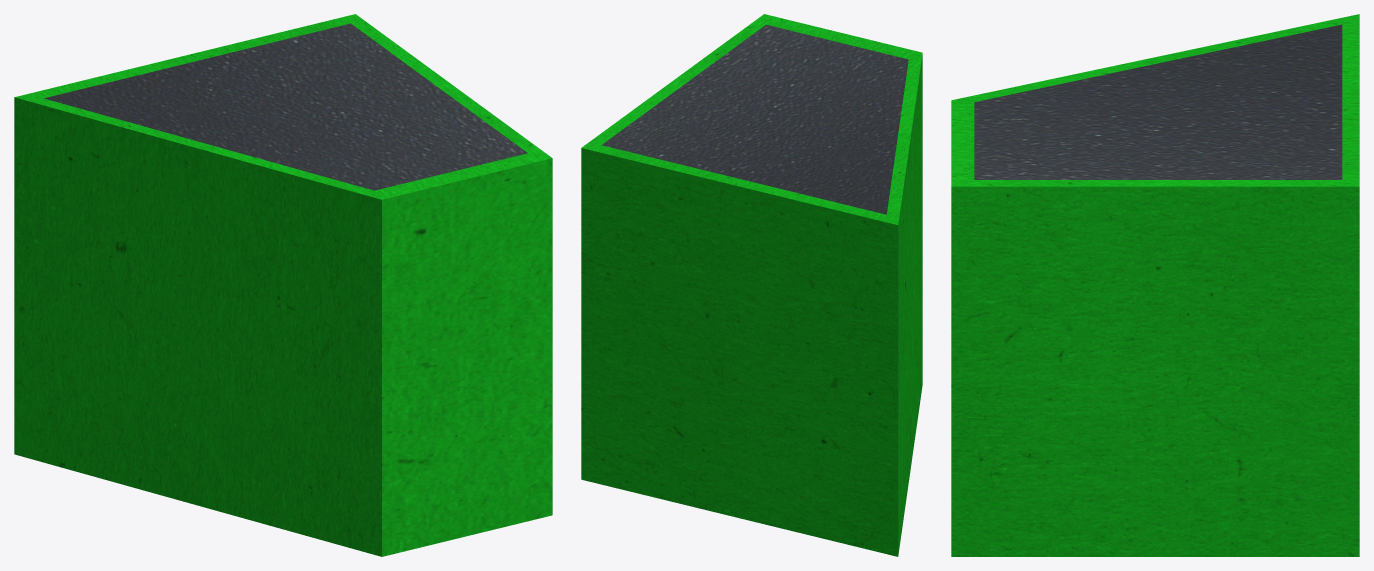
Rendered from Flipper.obj.
The picture shows the model from 3 angles, left to right: view 1: azimuth 30°, elevation 25°; view 2: azimuth 150°, elevation 25°; view 3: azimuth 270°, elevation 25°; orthographic projection. The views are drawn at different scales.
Visible parts, largest first — view 1: Flipper2S_Cube.007, Flipper2S.001_Cube.012; view 2: Flipper2S_Cube.007, Flipper2S.001_Cube.012; view 3: Flipper2S_Cube.007, Flipper2S.001_Cube.012.
Part boxes in pixels (box(x1,y1,x2,y2)): Flipper2S_Cube.007: box(14, 14, 552, 556); Flipper2S.001_Cube.012: box(44, 23, 527, 190); Flipper2S_Cube.007: box(581, 14, 922, 556); Flipper2S.001_Cube.012: box(602, 24, 908, 214); Flipper2S_Cube.007: box(951, 14, 1359, 556); Flipper2S.001_Cube.012: box(974, 24, 1342, 179).
Bounding box in the file's own units: 2 × 2 × 2.
